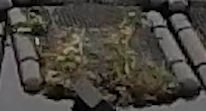bag: (7, 7, 195, 94)
